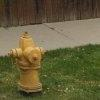a fire hydrant: (10, 31, 44, 98)
